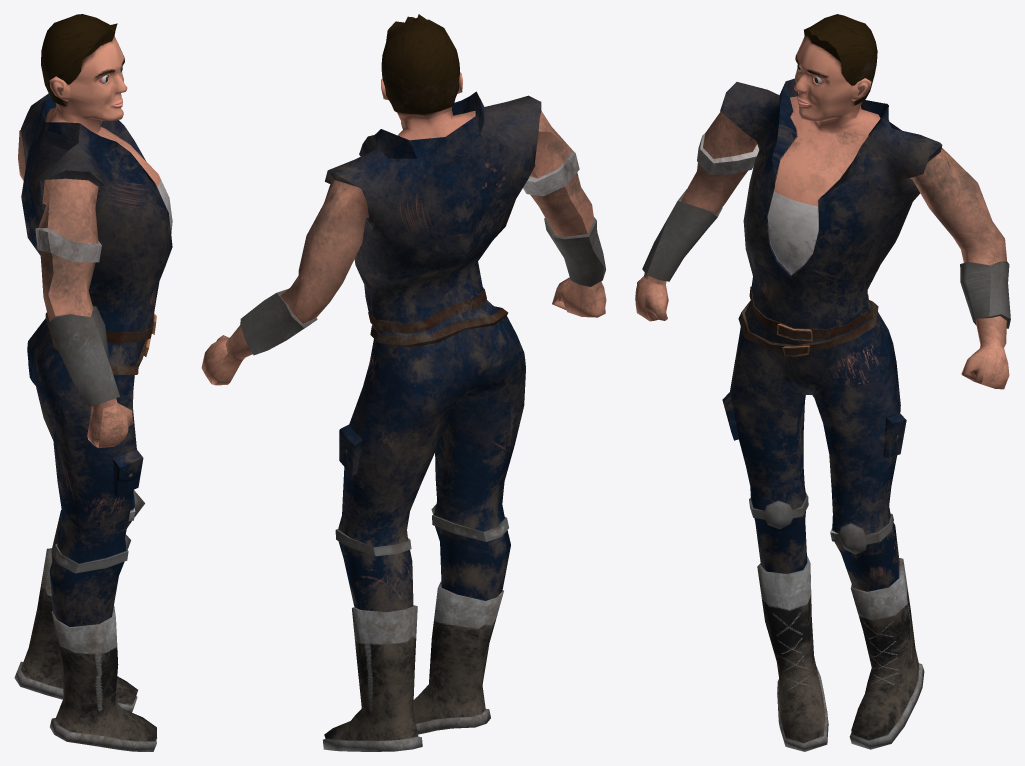
The model's file is Anim_ataque_f1_jugador.0034.obj.
The picture shows the model from 3 angles, left to right: view 1: azimuth 30°, elevation 25°; view 2: azimuth 150°, elevation 25°; view 3: azimuth 270°, elevation 25°; orthographic projection. The views are drawn at different scales.
Parts seen in each view (by area): view 1: polySurface1; view 2: polySurface1; view 3: polySurface1.
Boxes of the visible parts, box(x1,y1,x2,y2) form: polySurface1: box(14, 14, 172, 751); polySurface1: box(201, 14, 606, 751); polySurface1: box(635, 14, 1010, 751).
Bounding box in the file's own units: 3.39 × 9.94 × 4.79.
